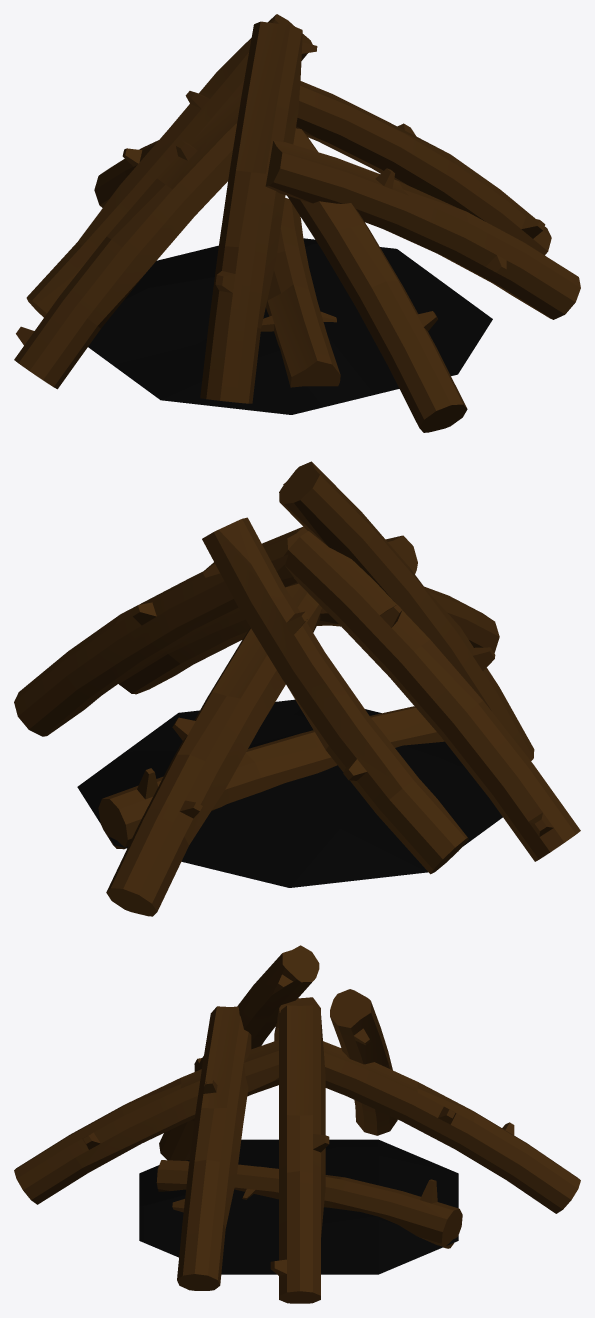
The model's file is Campfire(1).fbx.
3 views of the same model, one above another, from view 1: azimuth 30°, elevation 25°; view 2: azimuth 150°, elevation 25°; view 3: azimuth 270°, elevation 25° (orthographic). The views are drawn at different scales.
Parts seen in each view (by area): view 1: Campfire; view 2: Campfire; view 3: Campfire.
Boxes of the visible parts, bbox=[...] form: Campfire: bbox=[14, 14, 580, 432]; Campfire: bbox=[14, 461, 580, 916]; Campfire: bbox=[14, 945, 580, 1303].
Bounding box in the file's own units: 318 × 183 × 355.
